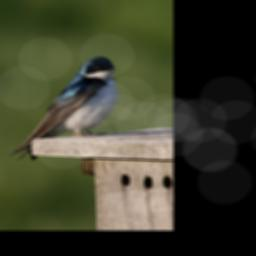Swallow: (8, 55, 120, 166)
